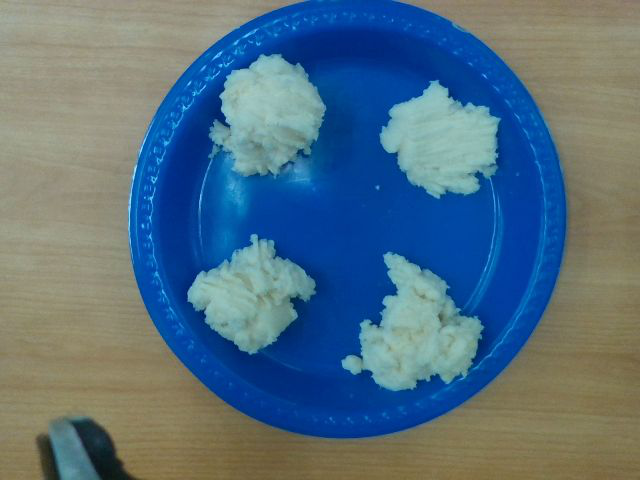mashed_potato: (342, 252, 484, 392), (188, 234, 316, 355), (209, 54, 326, 177), (380, 80, 501, 198)
